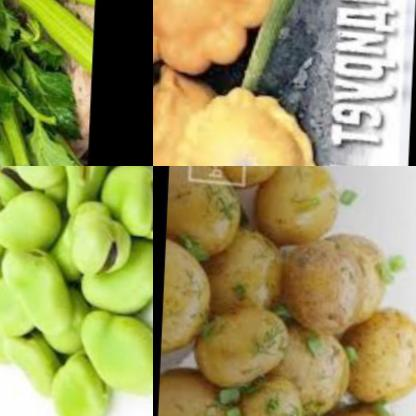beans: (0, 166, 153, 416)
celery: (0, 0, 43, 166), (14, 0, 95, 72)
potato: (289, 227, 399, 332), (214, 205, 300, 318), (202, 296, 298, 385), (164, 229, 231, 354), (167, 166, 256, 255), (345, 302, 416, 407), (260, 166, 343, 244), (296, 317, 358, 412), (159, 355, 248, 416), (241, 364, 310, 416), (322, 382, 416, 416), (186, 166, 281, 183)
squash-patisson: (181, 73, 324, 166), (153, 0, 283, 89), (153, 53, 214, 166)
